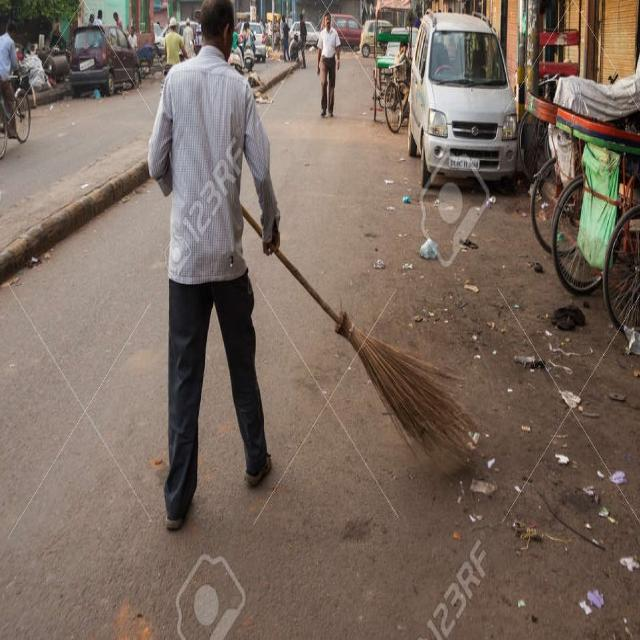garbage: (383, 217, 640, 640)
